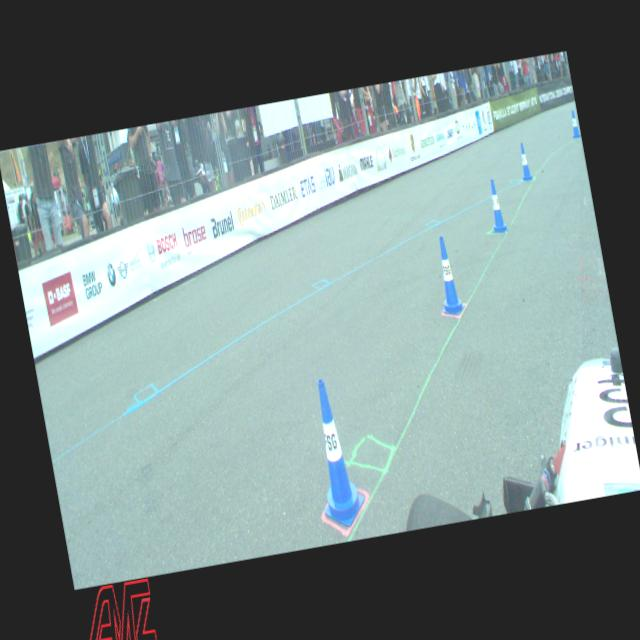blue_cone: (301, 374, 368, 532), (430, 235, 466, 318), (483, 178, 508, 235), (516, 142, 532, 180), (568, 110, 580, 138)
